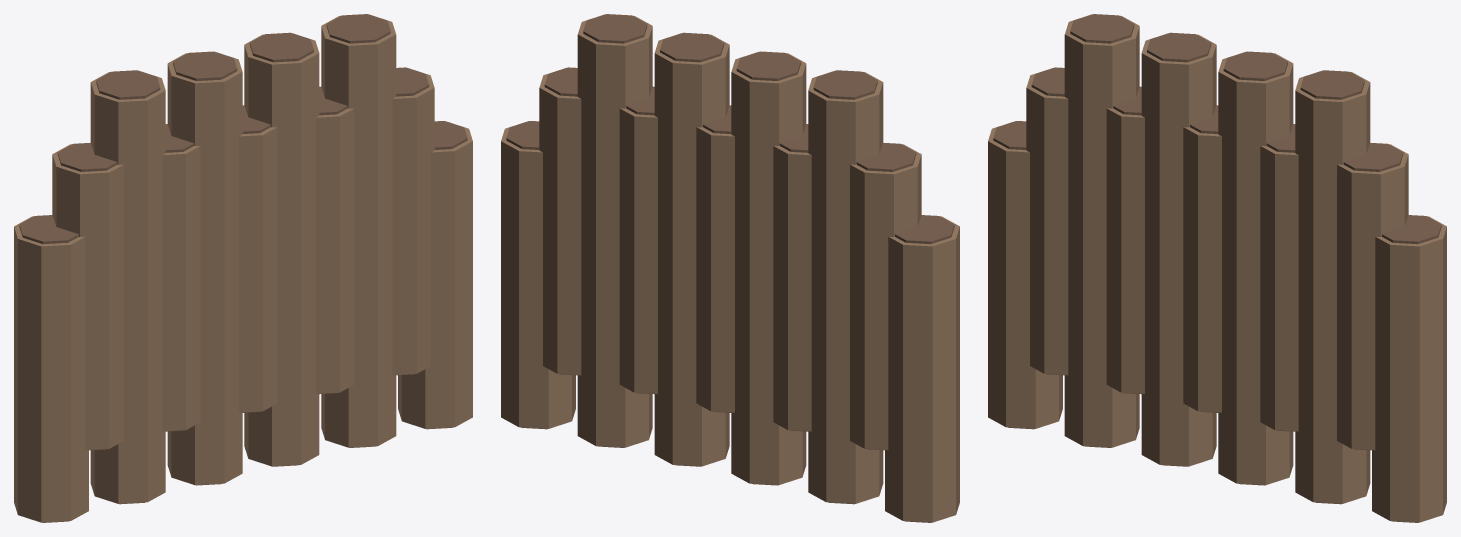
The model's file is haunted_firewood_large.glb.
The picture shows the model from 3 angles, left to right: view 1: azimuth 30°, elevation 25°; view 2: azimuth 150°, elevation 25°; view 3: azimuth 330°, elevation 25°; orthographic projection.
Visible parts, largest first — view 1: Haunted_Firewood_Large; view 2: Haunted_Firewood_Large; view 3: Haunted_Firewood_Large.
Boxes of the visible parts, left/top/right/bottom form: Haunted_Firewood_Large: left=14, top=14, right=472, bottom=522; Haunted_Firewood_Large: left=501, top=14, right=959, bottom=522; Haunted_Firewood_Large: left=988, top=14, right=1446, bottom=522.
Bounding box in the file's own units: 1.88 × 1.62 × 0.28.
